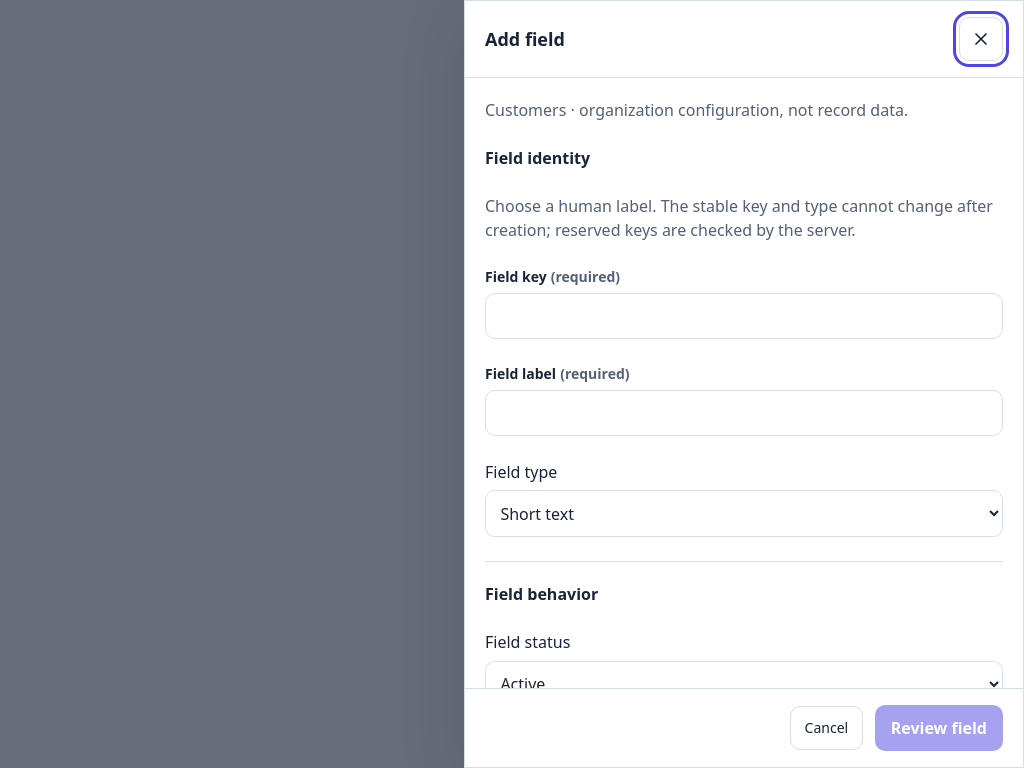
Test: creation shows inline validation before any API write
Type "A field" into the field labelled "Field label". click: {"x": 744, "y": 413}
box: [485,390,1003,436]
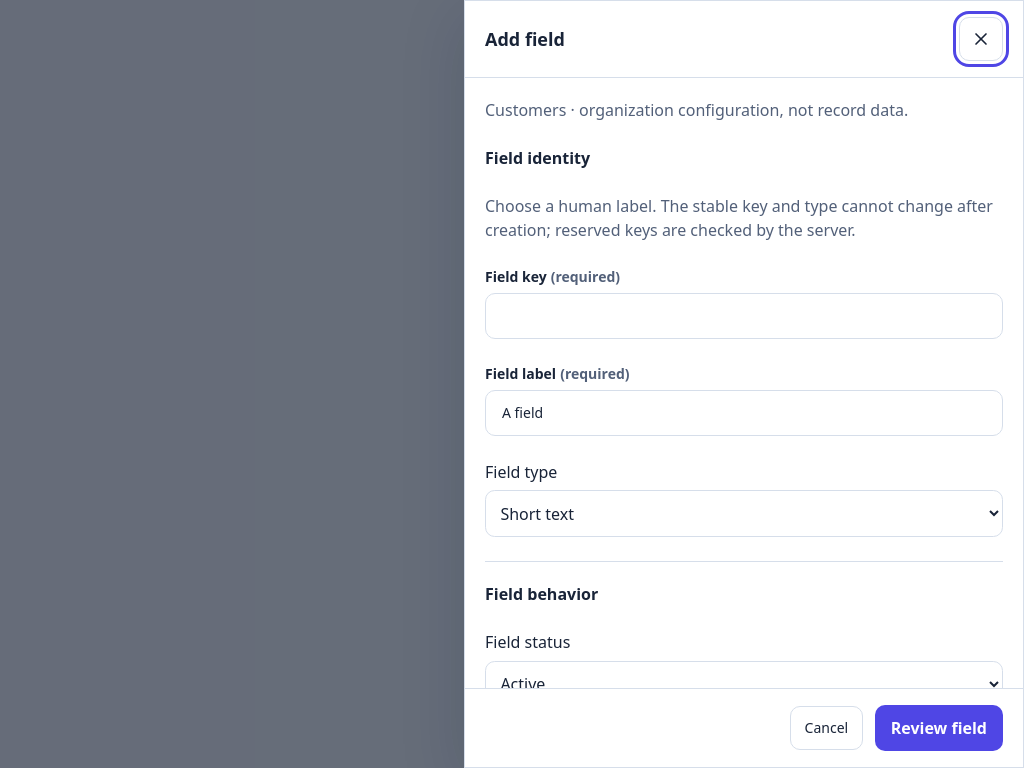
Click the button "Review field". click: {"x": 939, "y": 728}
box: [875,705,1003,751]
(page scrolled)
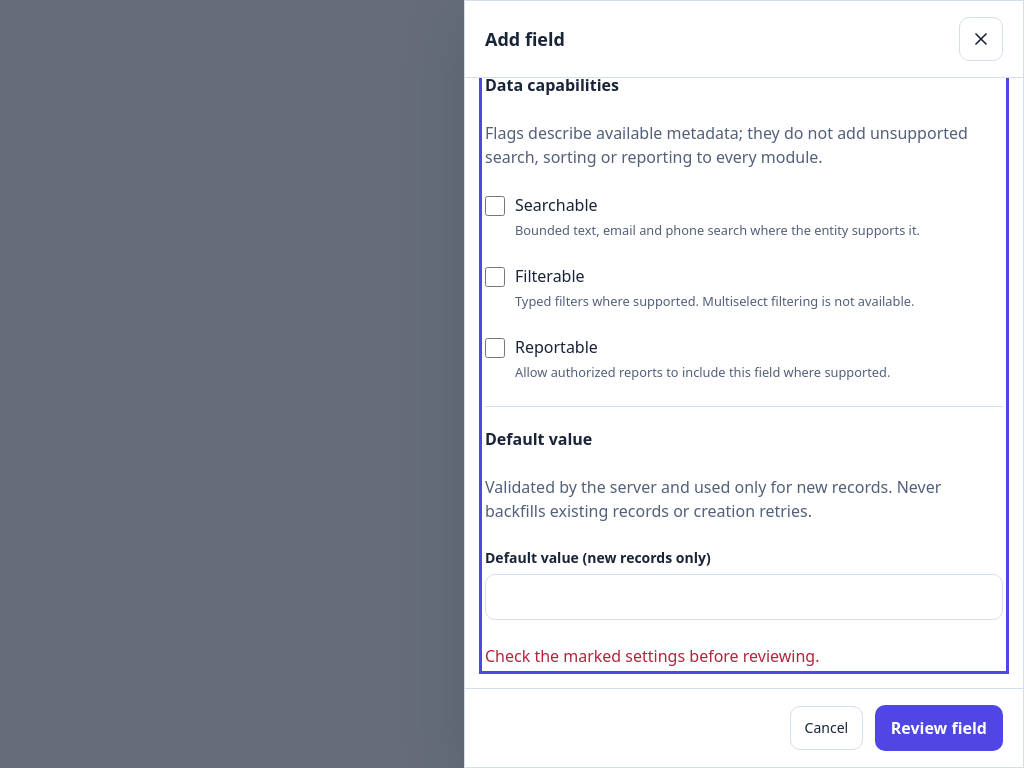
Result: the text "Check the marked settings before reviewing." is shown at [485,645,820,667]
